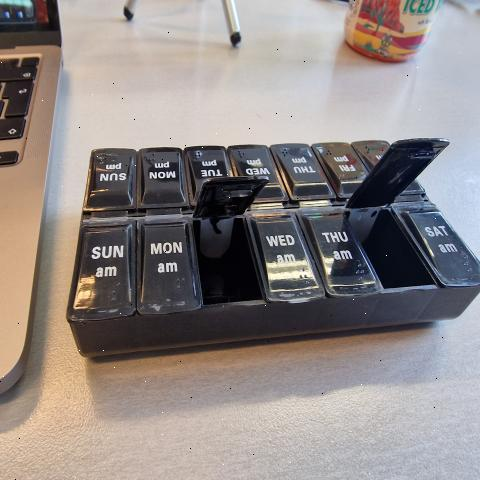Open: (349, 140, 448, 287), (194, 177, 268, 308)
